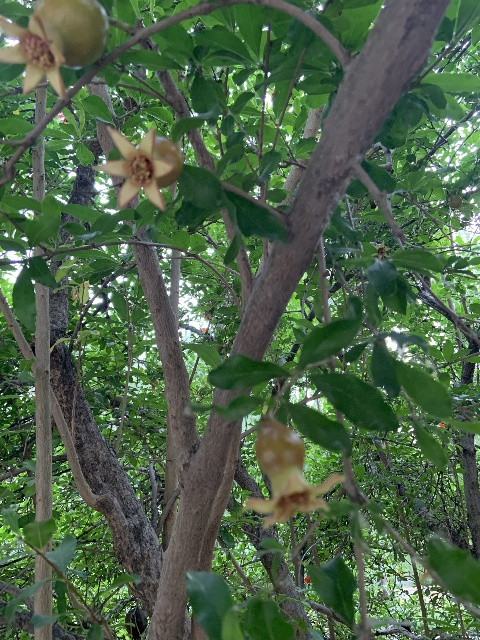early-fruit: (245, 416, 344, 526), (94, 123, 183, 212)
mid-growth: (0, 0, 107, 100)
